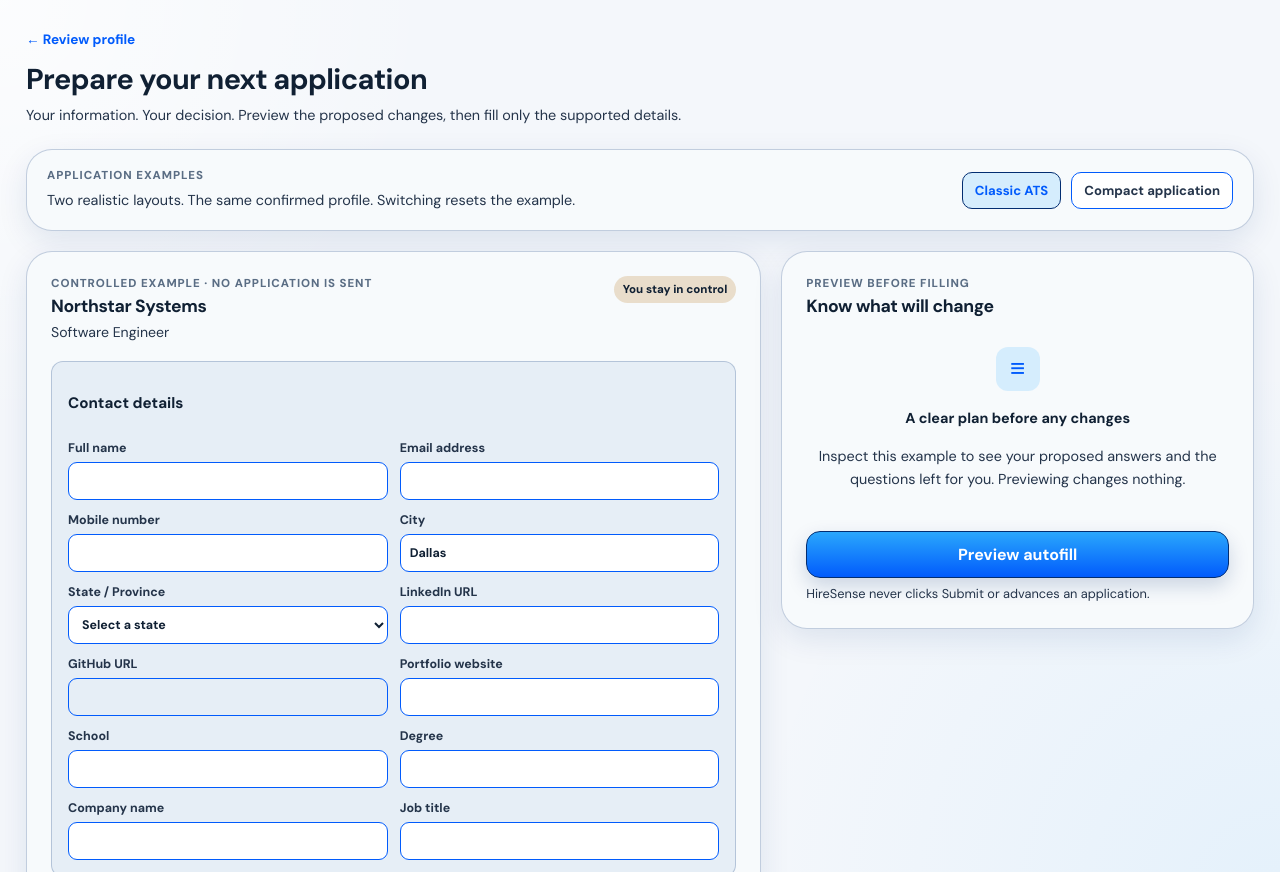
Test: controlled application flow › previews and verifies Compact application without submission
The width and height of the screenshot is (1280, 872).
Click the button "Compact application".
click(1152, 190)  # box [1071,172,1233,209]
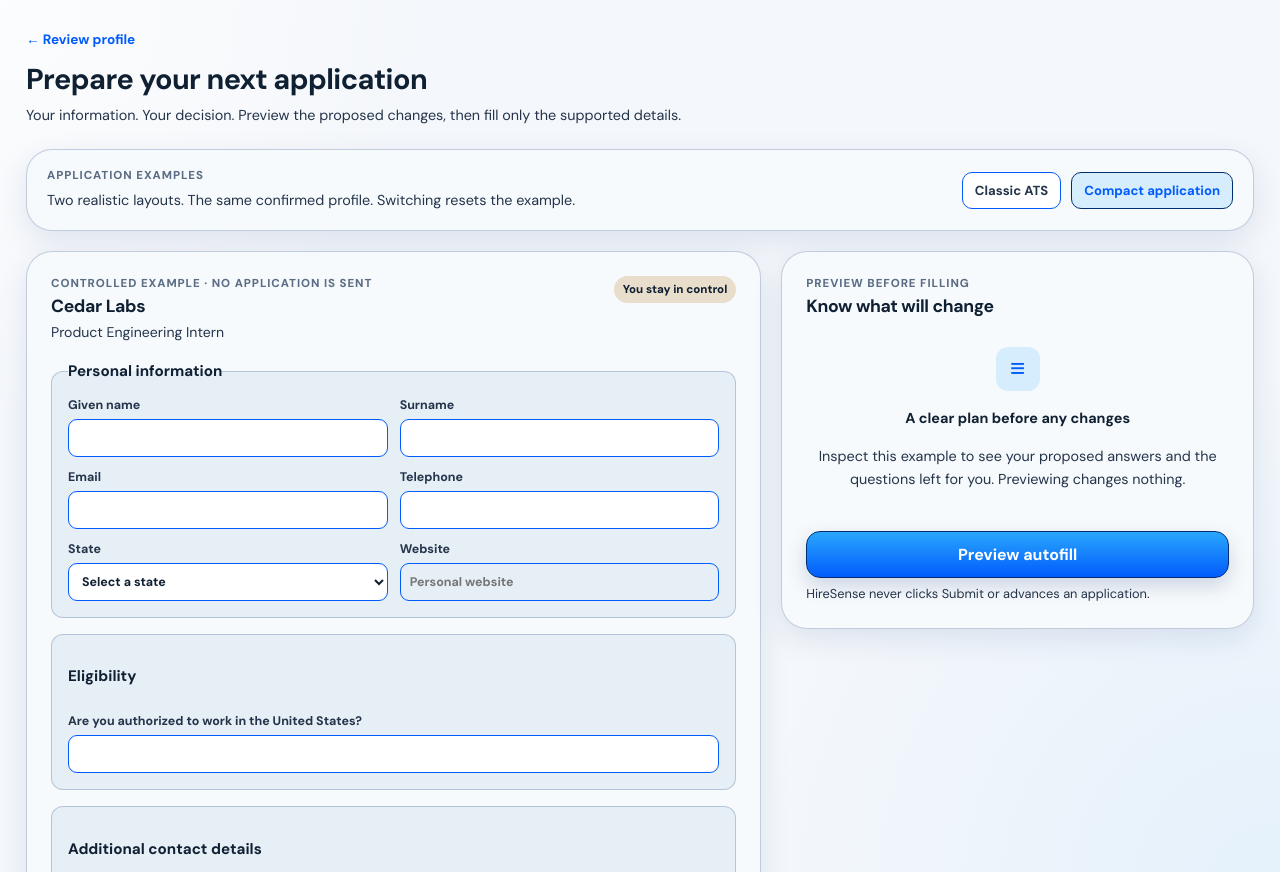
Click the button "Preview autofill".
click(1018, 554)  # box [806,531,1229,578]
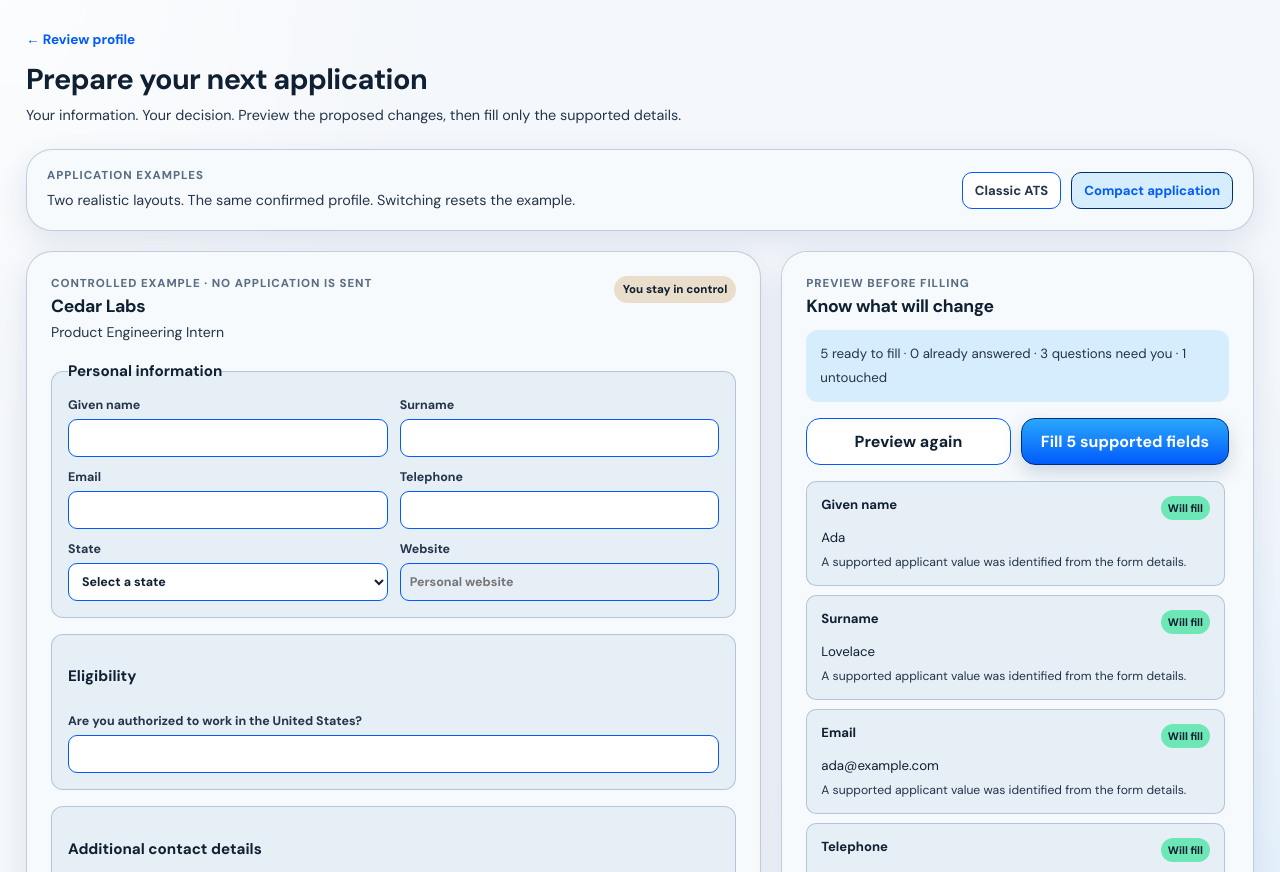
Now the text "Will fill" is shown, box [1161,496,1210,520]
Click the button "Fill 5 supported fields".
click(1125, 442)  # box [1021,418,1229,465]
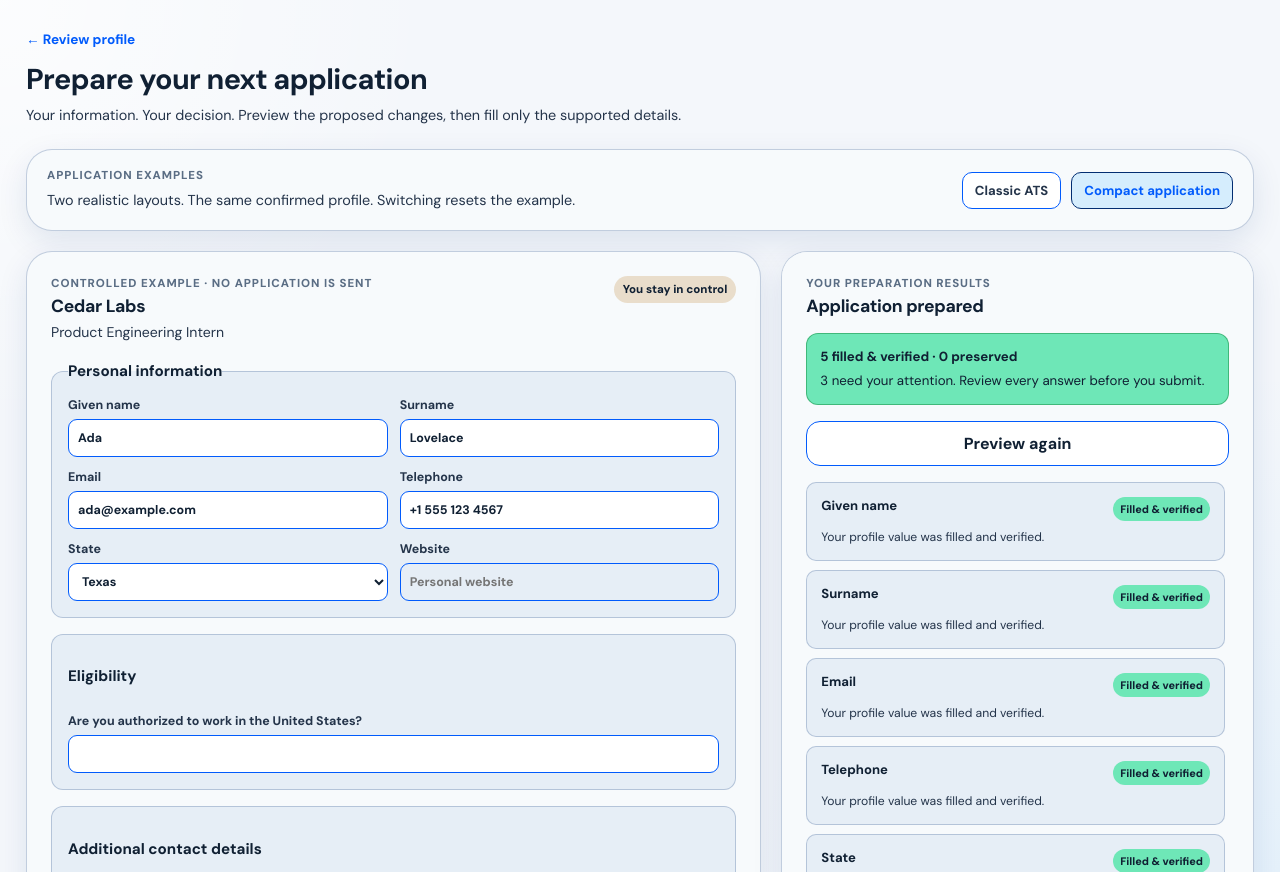
Now the text "filled & verified" is shown, box [829,348,939,365]
Now the text "Will fill" is gone
Now the text "Review every answer before you submit" is shown, box [828,372,1204,389]
Click the button "Preview again".
click(1018, 443)  # box [806,421,1229,466]
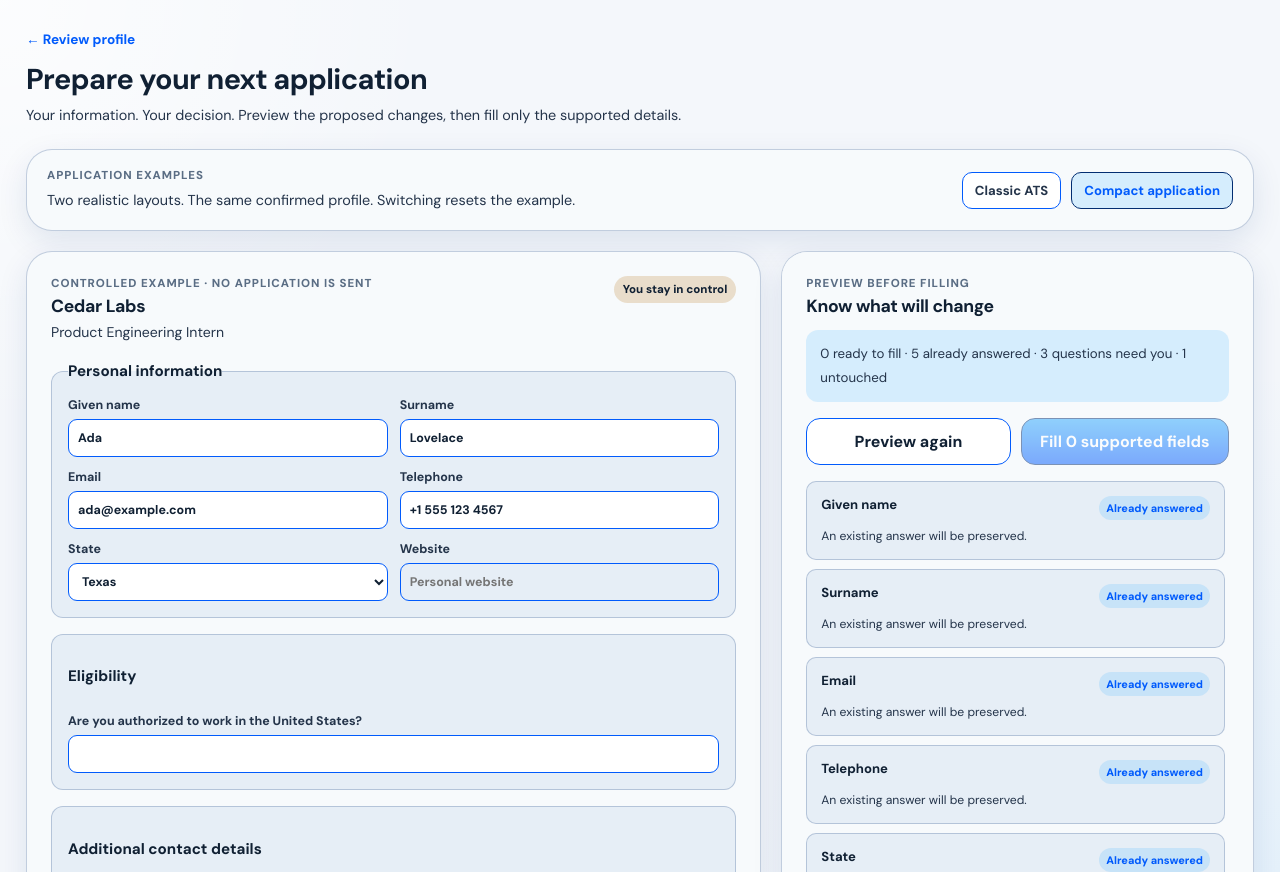
Now the button "Fill 0 supported fields" is disabled, box [1021,418,1229,465]
Now the text "already answered" is shown, box [820,345,1186,386]
